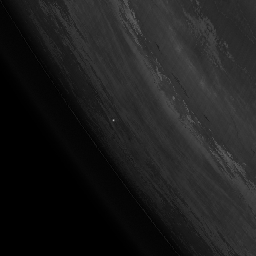Target: (111, 117, 115, 122)
